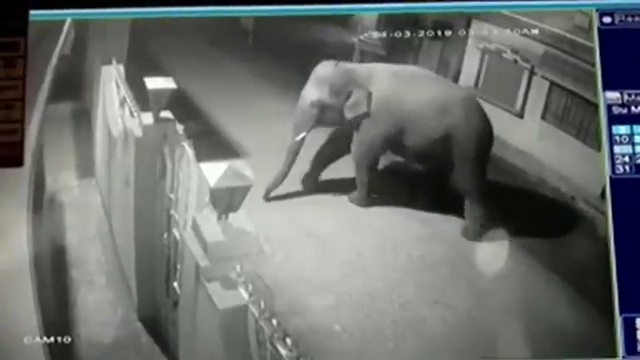Elephant: (263, 60, 493, 242)
